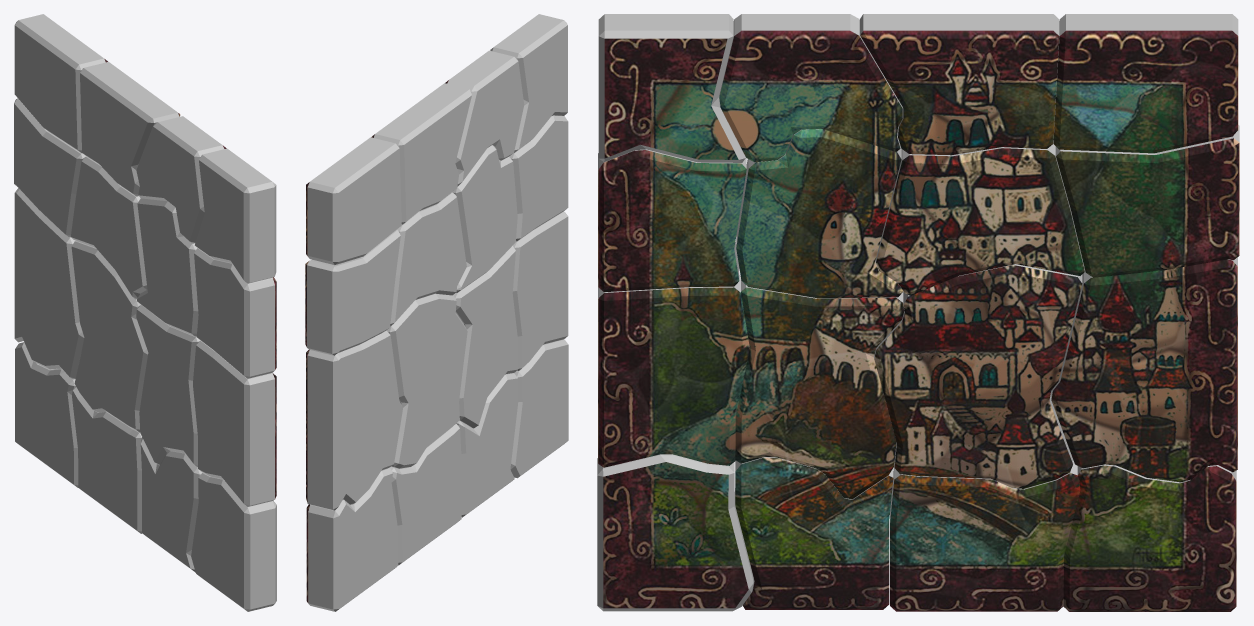
Rendered from Miramanda_puzzle.fbx.
The picture shows the model from 3 angles, left to right: view 1: azimuth 30°, elevation 25°; view 2: azimuth 150°, elevation 25°; view 3: azimuth 270°, elevation 25°; orthographic projection. The views are drawn at different scales.
Parts seen in each view (by area): view 1: Miramanda_pieces.002, Miramanda_pieces.016, Miramanda_pieces.010, Miramanda_pieces.001, Miramanda_pieces.003, Miramanda_pieces.015, Miramanda_pieces.004, Miramanda_pieces.006, Miramanda_pieces.014, Miramanda_pieces.012, Miramanda_pieces.011, Miramanda_pieces.009 (+4 smaller); view 2: Miramanda_pieces.010, Miramanda_pieces.016, Miramanda_pieces.006, Miramanda_pieces.011, Miramanda_pieces.005, Miramanda_pieces.004, Miramanda_pieces.014, Miramanda_pieces.002, Miramanda_pieces.012, Miramanda_pieces.009, Miramanda_pieces.007, Miramanda_pieces.008 (+4 smaller); view 3: Miramanda_pieces.016, Miramanda_pieces.010, Miramanda_pieces.014, Miramanda_pieces.002, Miramanda_pieces.006, Miramanda_pieces.012, Miramanda_pieces.004, Miramanda_pieces.011, Miramanda_pieces.009, Miramanda_pieces.008, Miramanda_pieces.001, Miramanda_pieces.005 (+4 smaller).
Boxes of the visible parts, x1,y1,x2,y2 form: Miramanda_pieces.002: (193,340,276,506); Miramanda_pieces.016: (71,241,148,432); Miramanda_pieces.010: (14,188,84,379); Miramanda_pieces.001: (191,473,276,611); Miramanda_pieces.003: (195,148,276,283); Miramanda_pieces.015: (194,248,276,378); Miramanda_pieces.004: (80,62,180,196); Miramanda_pieces.006: (14,14,107,152); Miramanda_pieces.014: (136,305,200,467); Miramanda_pieces.012: (72,386,141,533); Miramanda_pieces.011: (15,342,78,487); Miramanda_pieces.009: (71,156,147,299); Miramanda_pieces.010: (306,330,402,510); Miramanda_pieces.016: (386,293,467,468); Miramanda_pieces.006: (306,137,401,264); Miramanda_pieces.011: (306,468,398,611); Miramanda_pieces.005: (305,229,400,355); Miramanda_pieces.004: (371,83,471,224); Miramanda_pieces.014: (453,245,517,428); Miramanda_pieces.002: (512,211,568,370); Miramanda_pieces.012: (389,424,461,565); Miramanda_pieces.009: (390,192,466,326); Miramanda_pieces.007: (445,50,524,186); Miramanda_pieces.008: (452,145,517,292); Miramanda_pieces.016: (874,264,1082,488); Miramanda_pieces.010: (1051,257,1237,482); Miramanda_pieces.014: (735,279,904,499); Miramanda_pieces.002: (598,275,749,467); Miramanda_pieces.006: (1053,14,1238,153); Miramanda_pieces.012: (890,460,1080,611); Miramanda_pieces.004: (860,14,1059,155); Miramanda_pieces.011: (1063,464,1236,611); Miramanda_pieces.009: (876,140,1084,295); Miramanda_pieces.008: (736,129,903,298); Miramanda_pieces.001: (597,454,753,611); Miramanda_pieces.005: (1056,125,1239,277).
Bounding box in the file's own units: 59.36 × 735 × 736.
